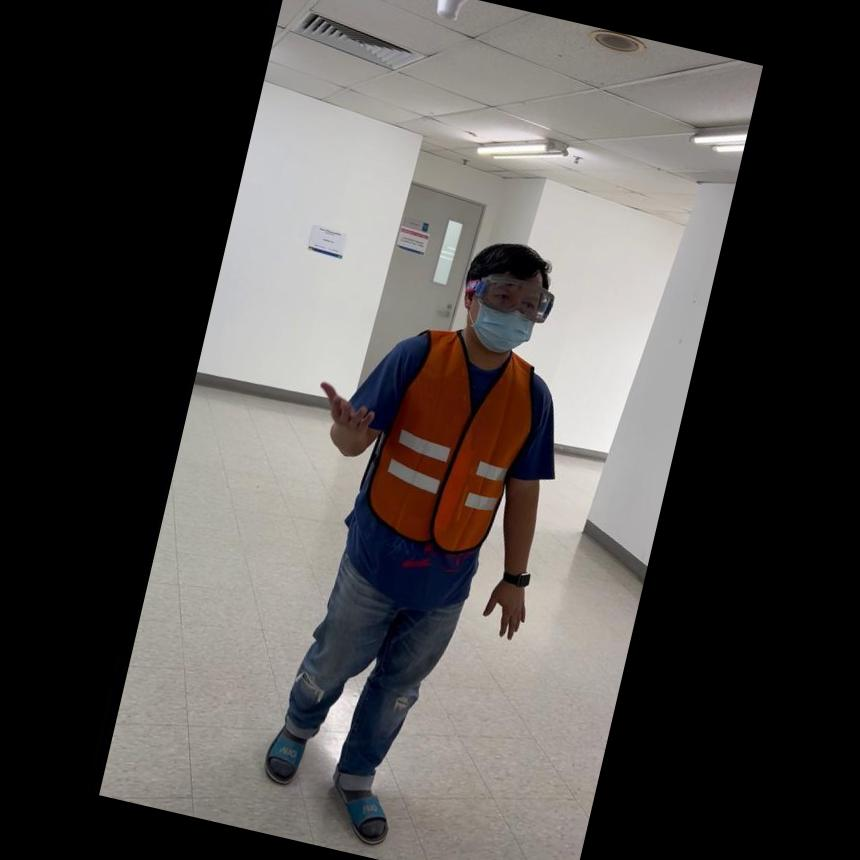No-gloves: (305, 371, 383, 456), (475, 564, 536, 644)
